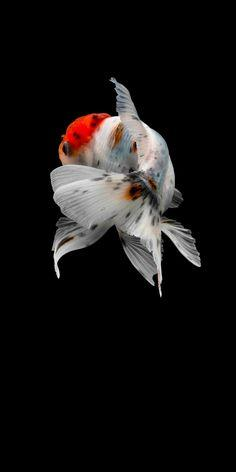goldfish: (36, 77, 219, 314)
